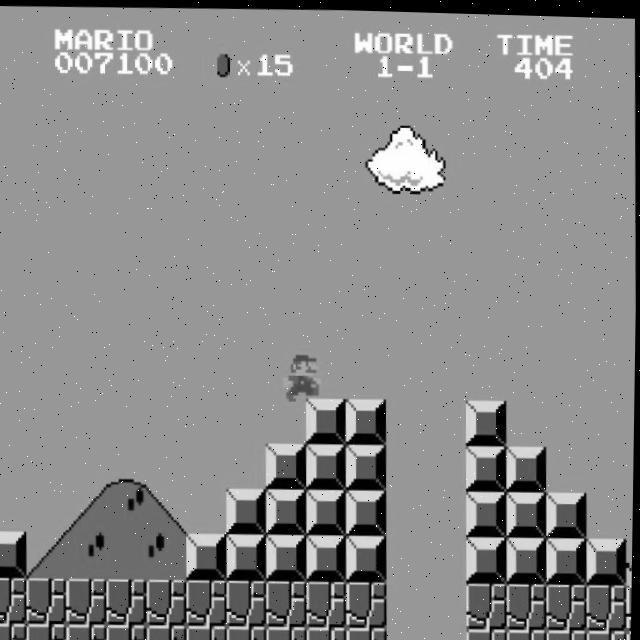11- little_mario: (280, 349, 325, 399)
17- undestructible_block: (586, 580, 629, 628), (27, 576, 69, 624), (67, 577, 109, 625), (107, 577, 149, 625), (147, 577, 189, 625), (227, 577, 269, 625), (267, 578, 309, 626), (307, 578, 349, 626), (347, 578, 389, 626), (467, 579, 509, 627), (507, 579, 549, 627), (547, 579, 589, 627), (187, 578, 229, 625), (0, 577, 29, 624), (28, 622, 69, 640), (68, 622, 109, 640), (228, 622, 269, 640), (108, 623, 149, 640), (148, 623, 189, 640), (188, 623, 229, 640), (268, 623, 309, 640), (308, 623, 349, 640), (348, 624, 389, 640), (468, 625, 509, 640), (508, 625, 549, 640), (548, 625, 589, 640), (588, 625, 629, 640), (0, 622, 28, 640), (626, 580, 633, 626), (627, 626, 633, 640)
9- hard_block: (186, 531, 229, 579), (226, 531, 269, 579), (266, 532, 309, 580), (305, 395, 348, 443), (306, 532, 349, 580), (345, 395, 388, 443), (346, 532, 389, 580), (465, 396, 508, 444), (466, 533, 509, 581), (506, 533, 549, 581), (546, 533, 589, 581), (586, 534, 629, 582), (226, 486, 268, 534), (266, 486, 308, 534), (306, 487, 348, 535), (346, 487, 388, 535), (466, 487, 508, 535), (506, 488, 548, 536), (546, 488, 588, 536), (266, 441, 308, 488), (306, 441, 348, 488), (346, 441, 388, 488), (466, 442, 508, 489), (506, 442, 548, 489), (0, 531, 28, 578)
